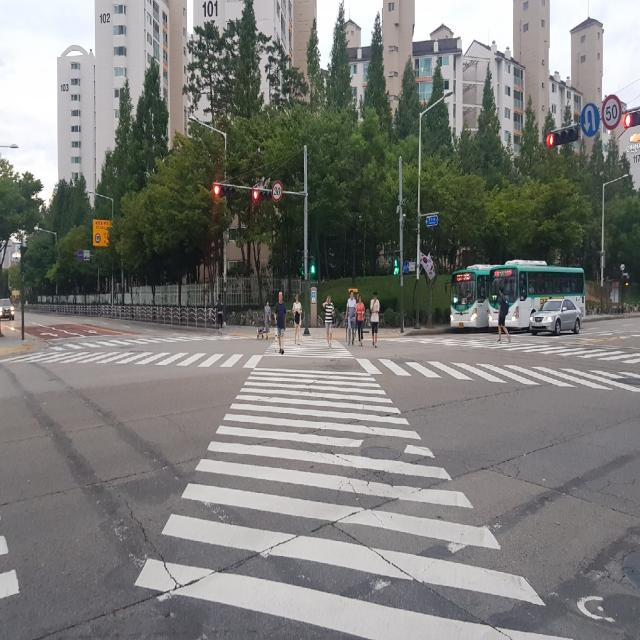초록불: (393, 249, 399, 274), (308, 256, 315, 274)
횡단보도: (134, 334, 577, 640), (389, 332, 636, 389), (17, 337, 142, 365)
